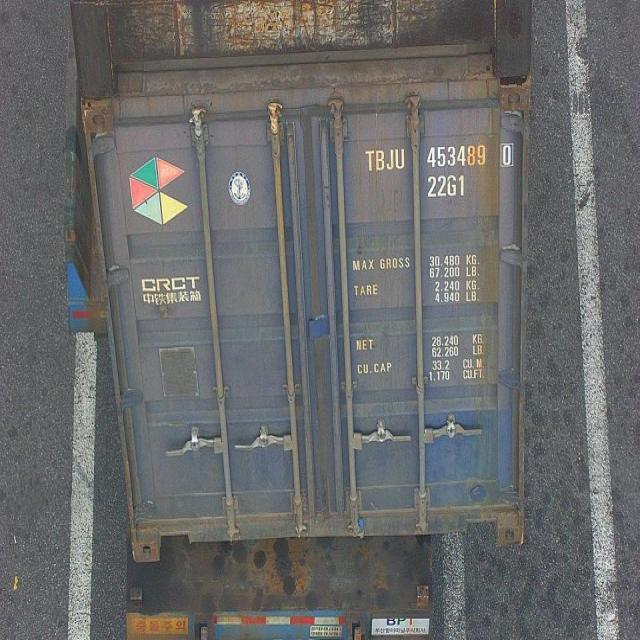ISO: (428, 174, 474, 198)
container_number: (371, 144, 516, 168)
